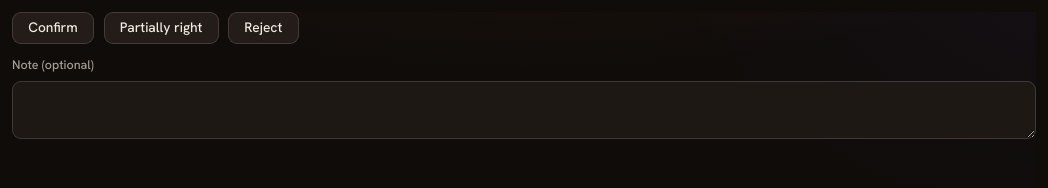
Scenario: VerdictControls › optimistically shows the verdict and submits it
Click the button "Confirm".
click(53, 28)  # box [12, 12, 94, 44]
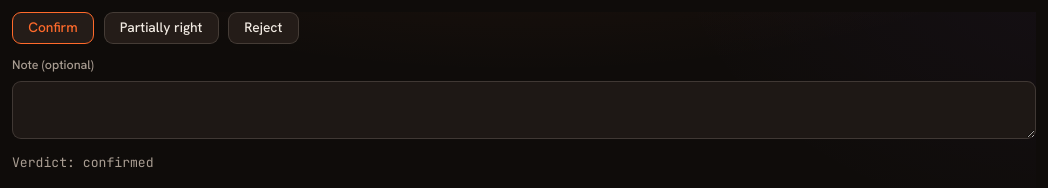
Now the text "Verdict: confirmed" is shown, box [12, 154, 154, 171]
